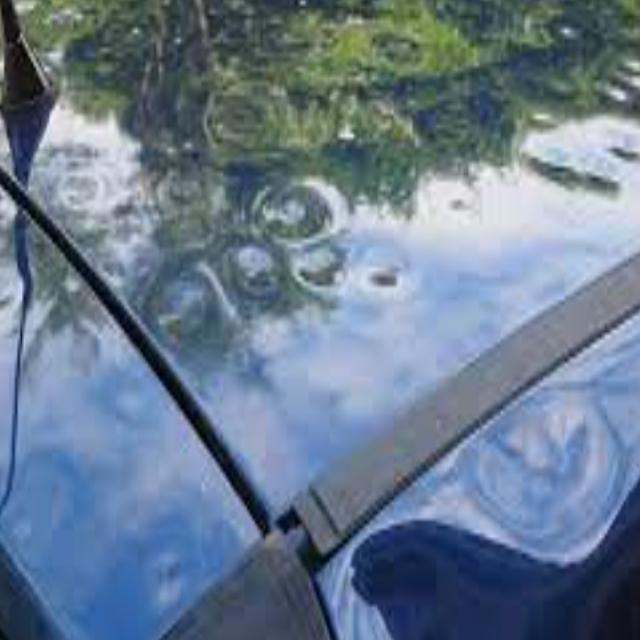dents: (482, 398, 608, 540), (253, 172, 339, 242), (153, 246, 208, 338), (233, 225, 270, 317), (146, 532, 190, 607), (366, 223, 404, 306), (303, 227, 343, 299)
